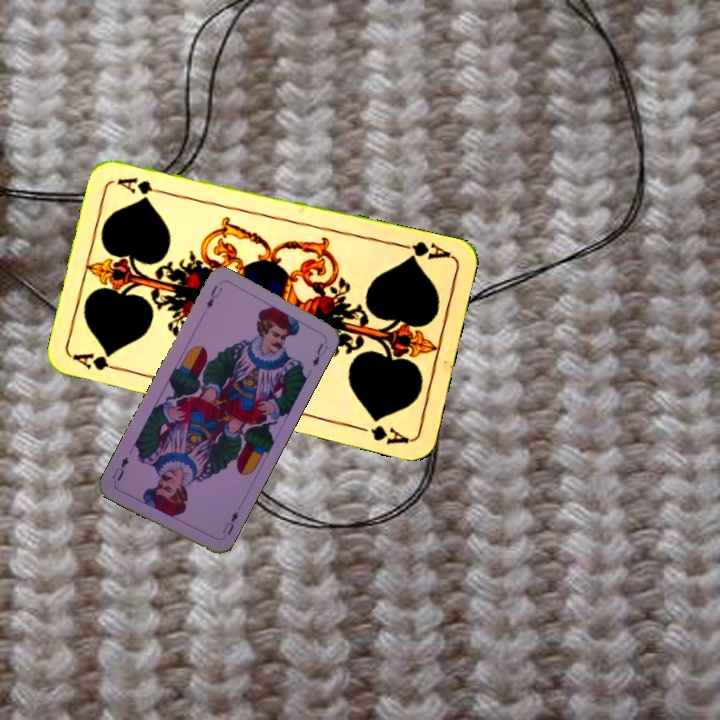EU: (218, 507, 241, 538), (202, 281, 225, 311)
GA: (394, 237, 454, 264), (70, 349, 129, 374)
